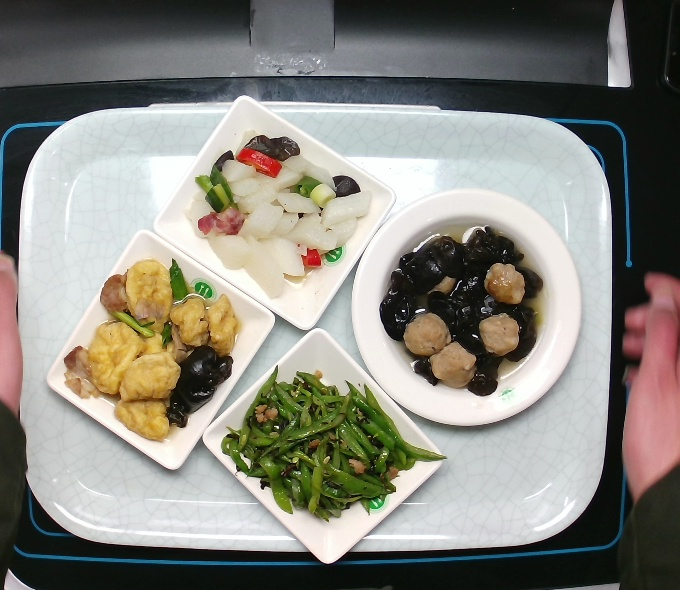wcq-MuErWanZi: (378, 223, 546, 396)
wcq-ShanYao: (185, 130, 376, 300)
wcq-SiJiDouChaoRou: (220, 368, 417, 523)
wcq-YouPaoRouPian: (63, 256, 239, 444)
